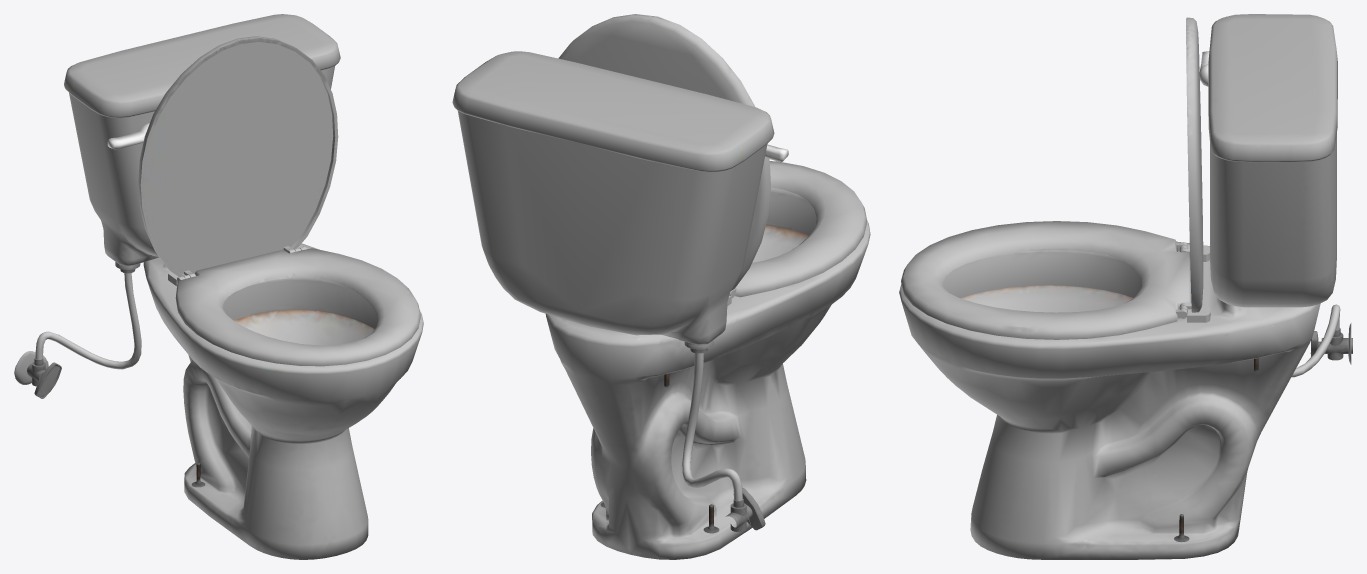
The model's file is bacia.glb.
The picture shows the model from 3 angles, left to right: view 1: azimuth 30°, elevation 25°; view 2: azimuth 150°, elevation 25°; view 3: azimuth 270°, elevation 25°; orthographic projection. The views are drawn at different scales.
Visible parts, largest first — view 1: Toilet_Toilet_0; view 2: Toilet_Toilet_0; view 3: Toilet_Toilet_0.
Part boxes in pixels (left/top/right/bottom): Toilet_Toilet_0: left=14, top=14, right=423, bottom=559; Toilet_Toilet_0: left=452, top=14, right=870, bottom=559; Toilet_Toilet_0: left=899, top=14, right=1352, bottom=559.
Bounding box in the file's own units: 0.4784 × 0.7435 × 0.607.
Materials: 1 (1 with a texture image).
